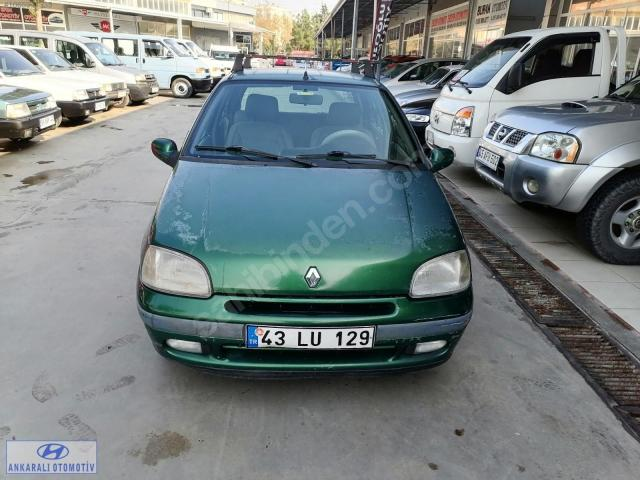plaka: (246, 325, 375, 348)
